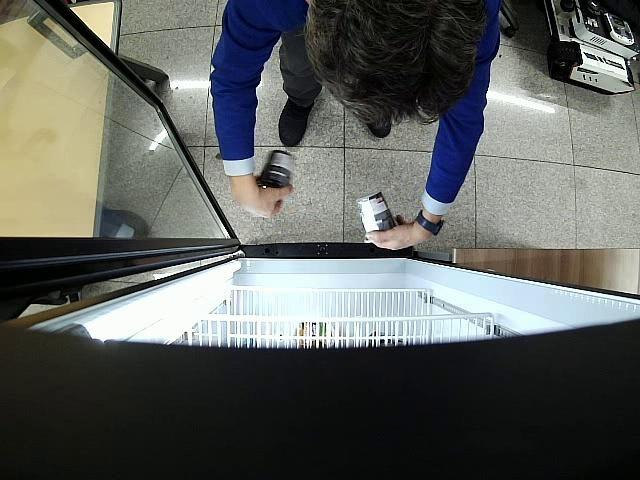08_buldak_S: (357, 190, 399, 242), (257, 149, 295, 188)
